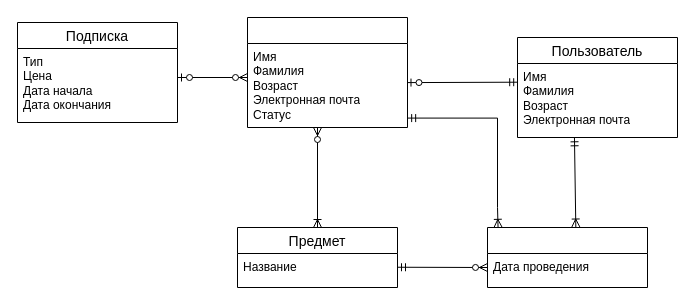
Some shapes in this 695 by 308 pixel diagram are drawn without their labels. Here are the shapes that lost their labels. From the top down, the box of each, then its label:
(246, 16, 408, 128): Учитель
(486, 226, 648, 288): Занятие
